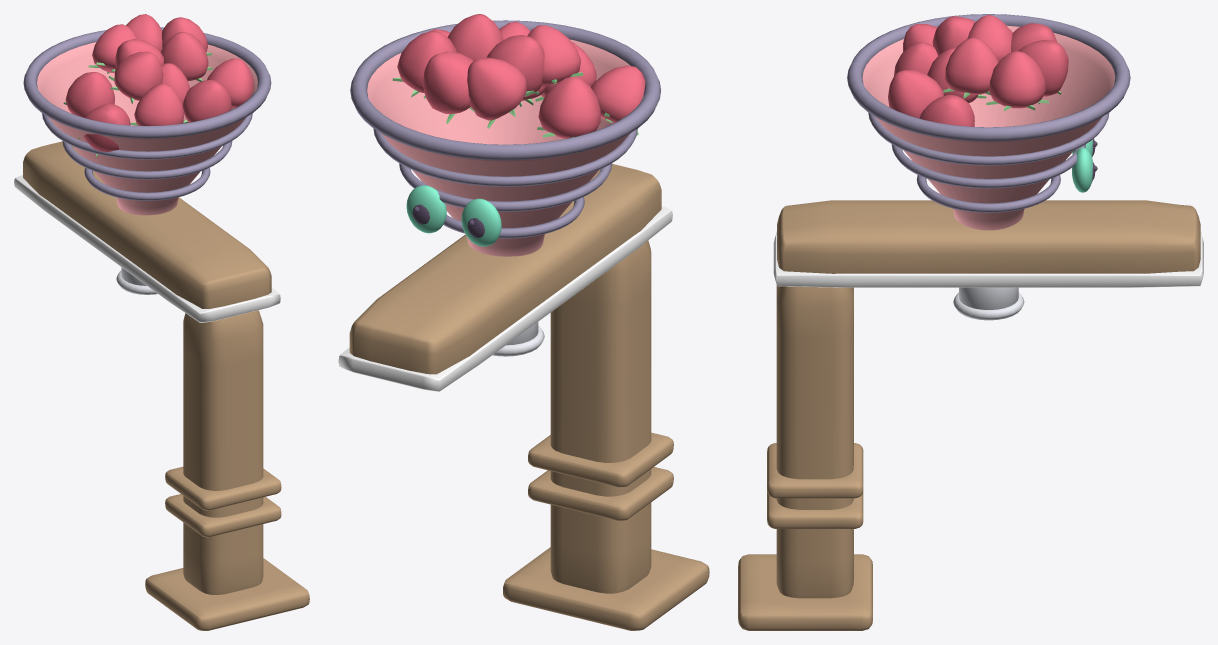
Rendered from CakeHopper.glb.
3 renders of one model, left to right at view 1: azimuth 30°, elevation 25°; view 2: azimuth 150°, elevation 25°; view 3: azimuth 270°, elevation 25°, orthographic. The views are drawn at different scales.
Visible parts, largest first — view 1: Frame, Berries, Rim, Hopper, Stripe, Chute; view 2: Frame, Berries, Rim, Hopper, Stripe, Eyes, Chute, BerryLeaves, Pupils; view 3: Frame, Berries, Rim, Hopper, Stripe, Chute, Eyes.
Boxes of the visible parts, x1,y1,x2,y2 form: Frame: [23, 141, 309, 630]; Berries: [65, 14, 253, 151]; Rim: [23, 27, 271, 200]; Hopper: [37, 42, 257, 215]; Stripe: [14, 175, 280, 322]; Chute: [116, 267, 157, 294]; Frame: [349, 164, 709, 630]; Berries: [397, 14, 645, 138]; Rim: [350, 20, 660, 238]; Hopper: [367, 39, 643, 256]; Stripe: [338, 206, 672, 391]; Eyes: [406, 185, 501, 246]; Chute: [493, 322, 544, 356]; BerryLeaves: [392, 72, 638, 137]; Pupils: [412, 204, 484, 237]; Frame: [738, 200, 1200, 630]; Berries: [888, 14, 1068, 126]; Rim: [847, 14, 1130, 212]; Hopper: [862, 25, 1114, 230]; Stripe: [773, 232, 1203, 287]; Chute: [953, 287, 1024, 320]; Eyes: [1072, 139, 1092, 192].
Size of the model in its own units: 5.88 by 13.29 by 9.66.
